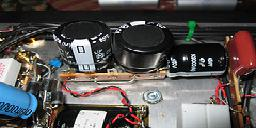Electrolytic-capacitor: (50, 20, 109, 82), (167, 41, 228, 83)
